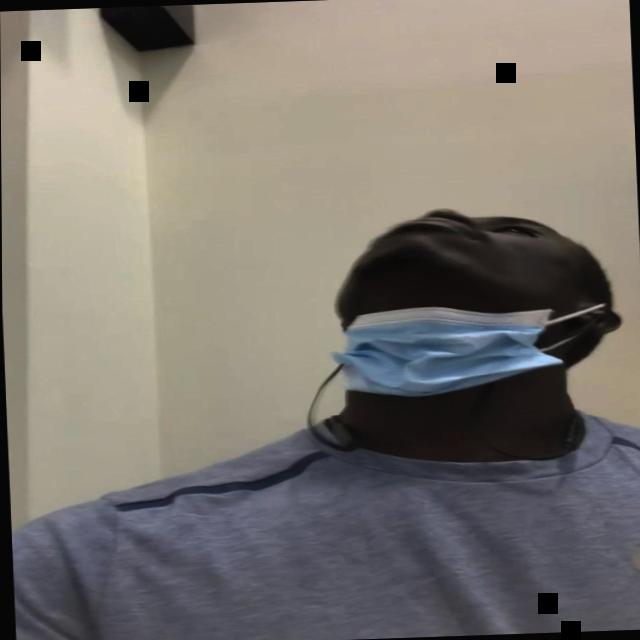NO-Mask: (326, 202, 598, 400)
